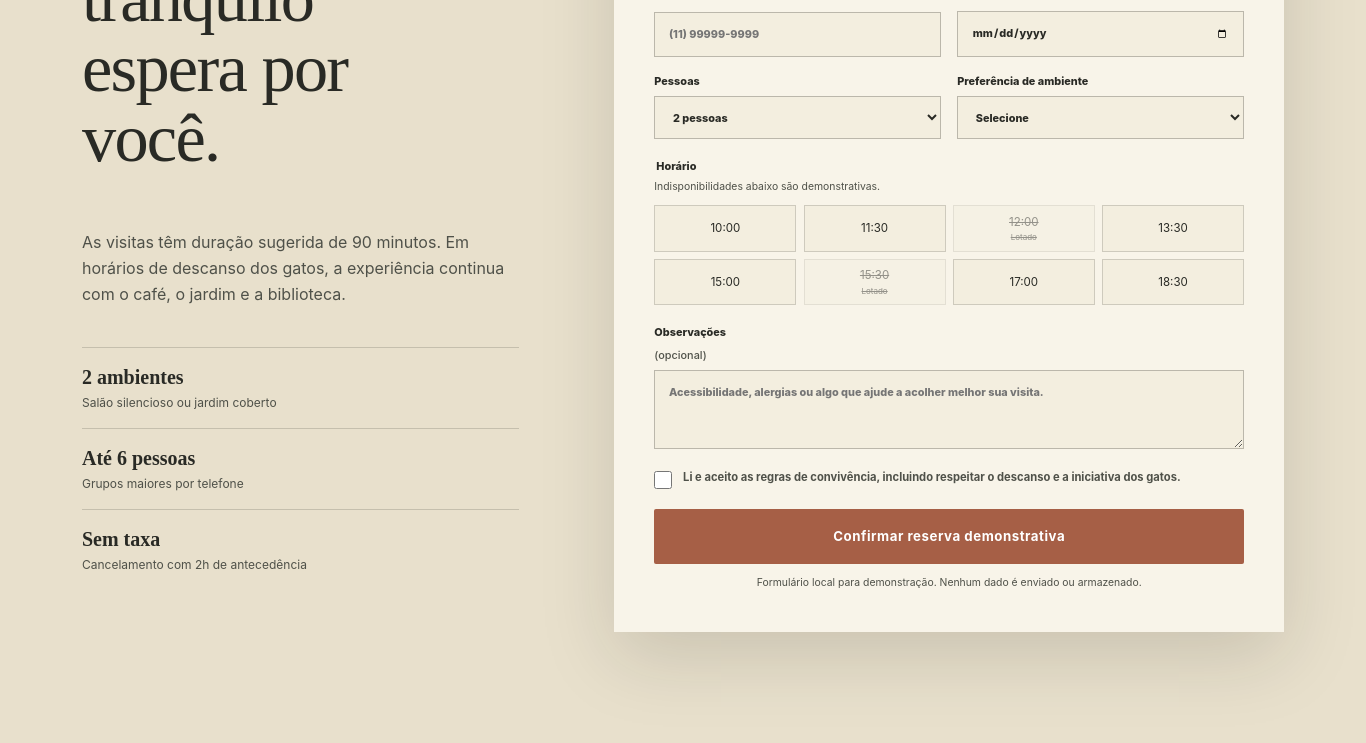
reservas › explica os campos inválidos sem enviar dados
(page scrolled)
Click the button "Confirmar reserva demonstrativa" at (949, 536), box [654, 509, 1244, 564]
(page scrolled)
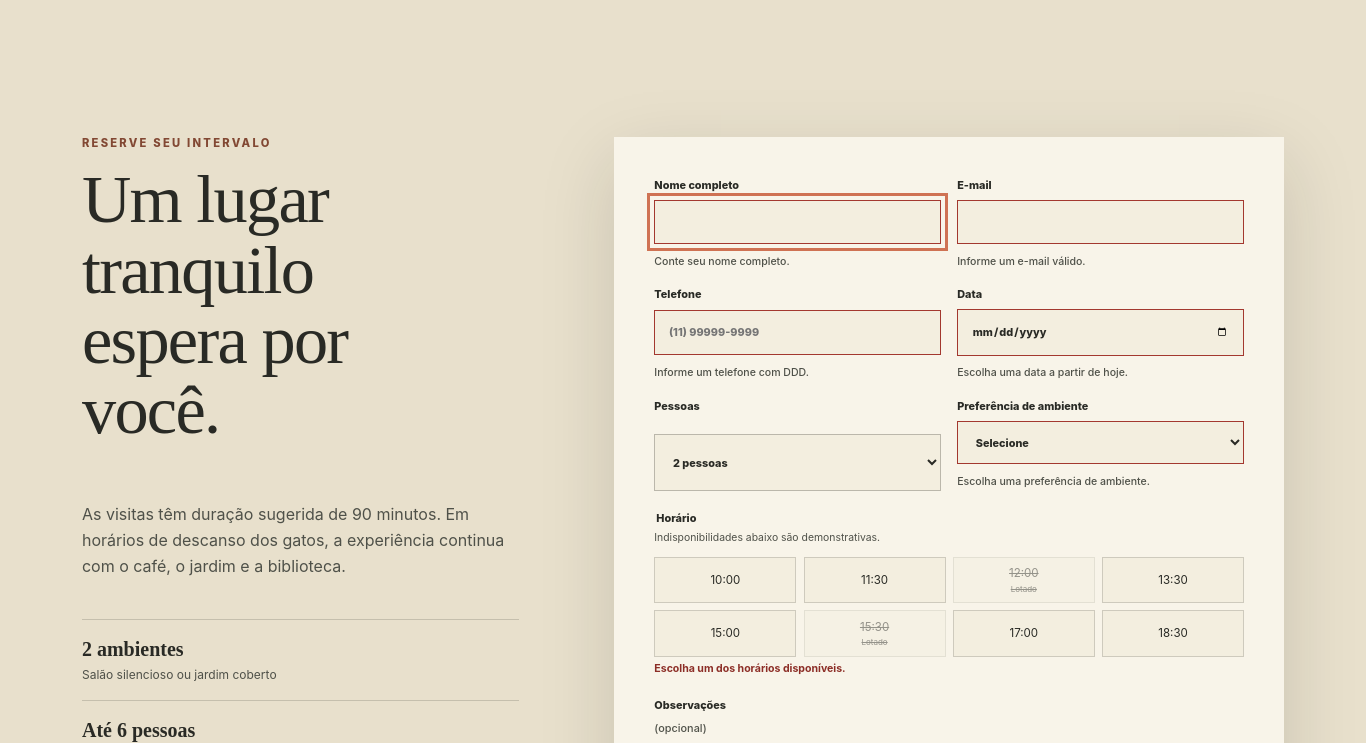
Expected: the text "Conte seu nome completo." is shown, [654, 254, 790, 268]
Expected: the text "Informe um e-mail válido." is shown, [957, 254, 1086, 268]
Expected: the text "Escolha um dos horários disponíveis." is shown, [654, 662, 846, 675]
